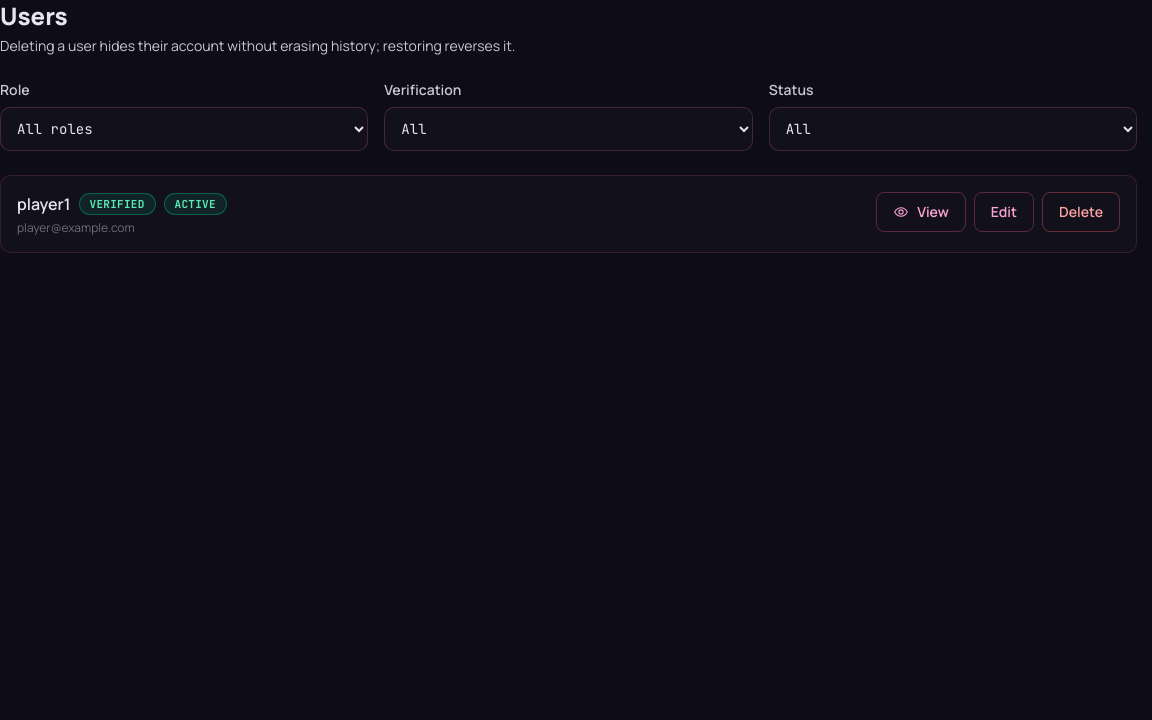
UsersPage › reports a conflict when the target was already changed and resyncs the list
Click the button "Delete": (1081, 212) [1042,192,1120,232]
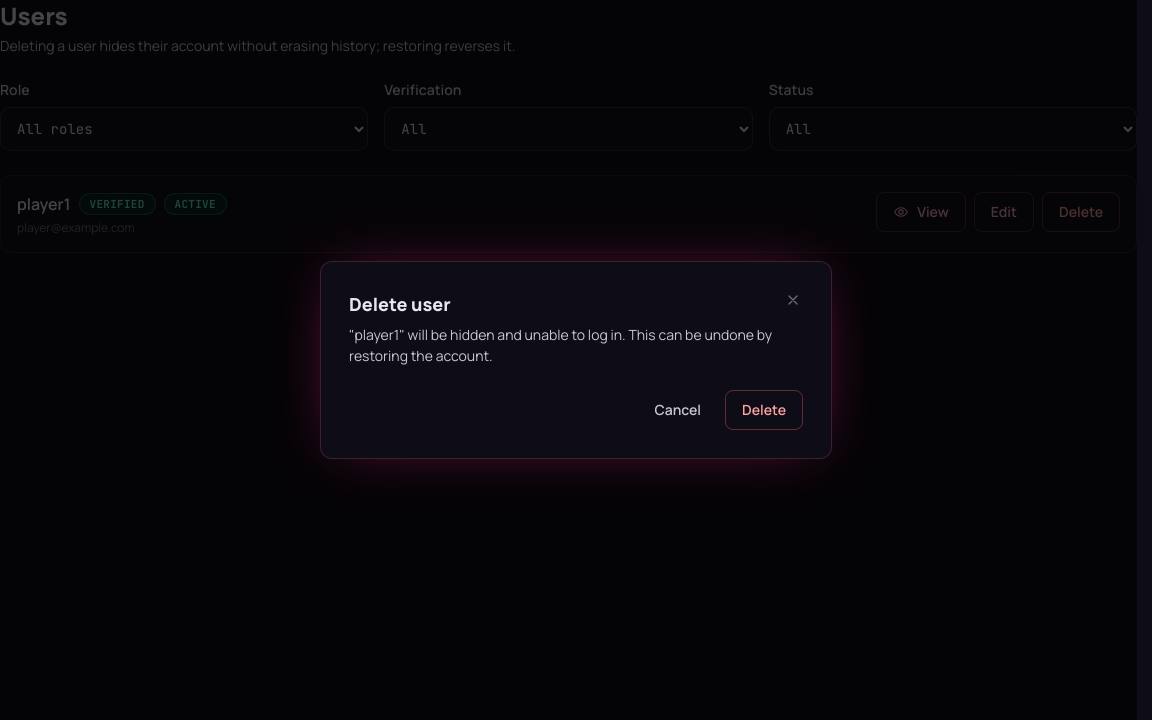
Click the button "Delete": (764, 410) [725,390,803,430]
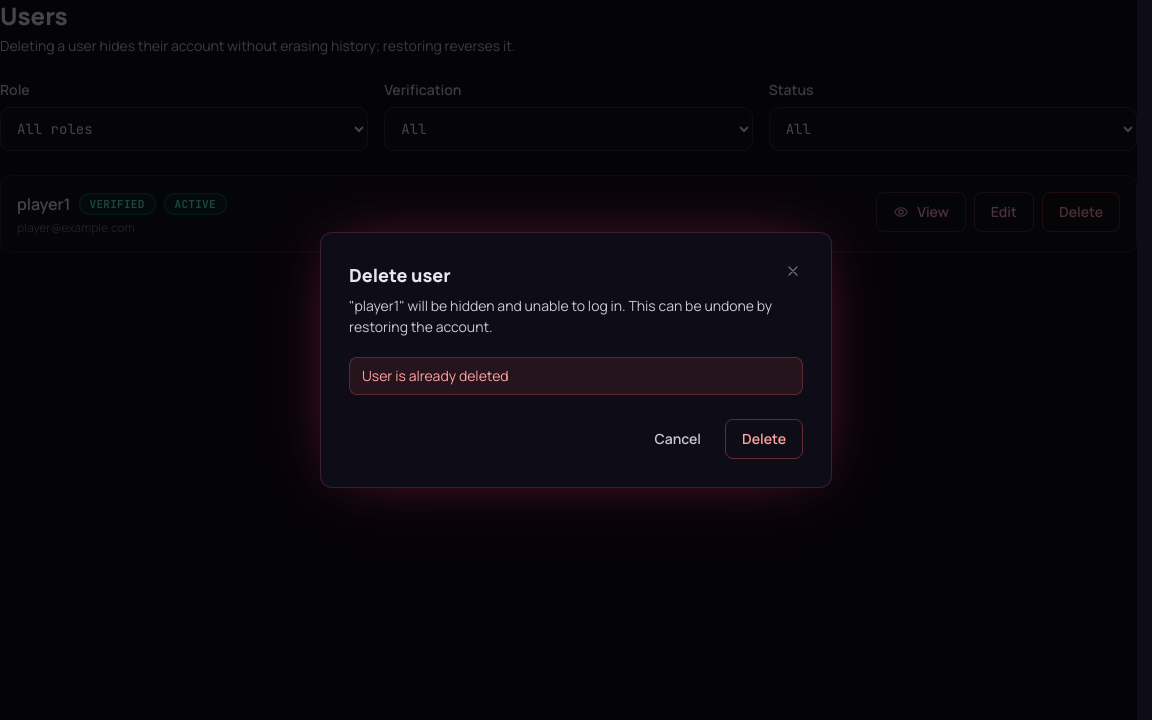
expect the message reads "User is already deleted": met, box [362,366,509,385]
